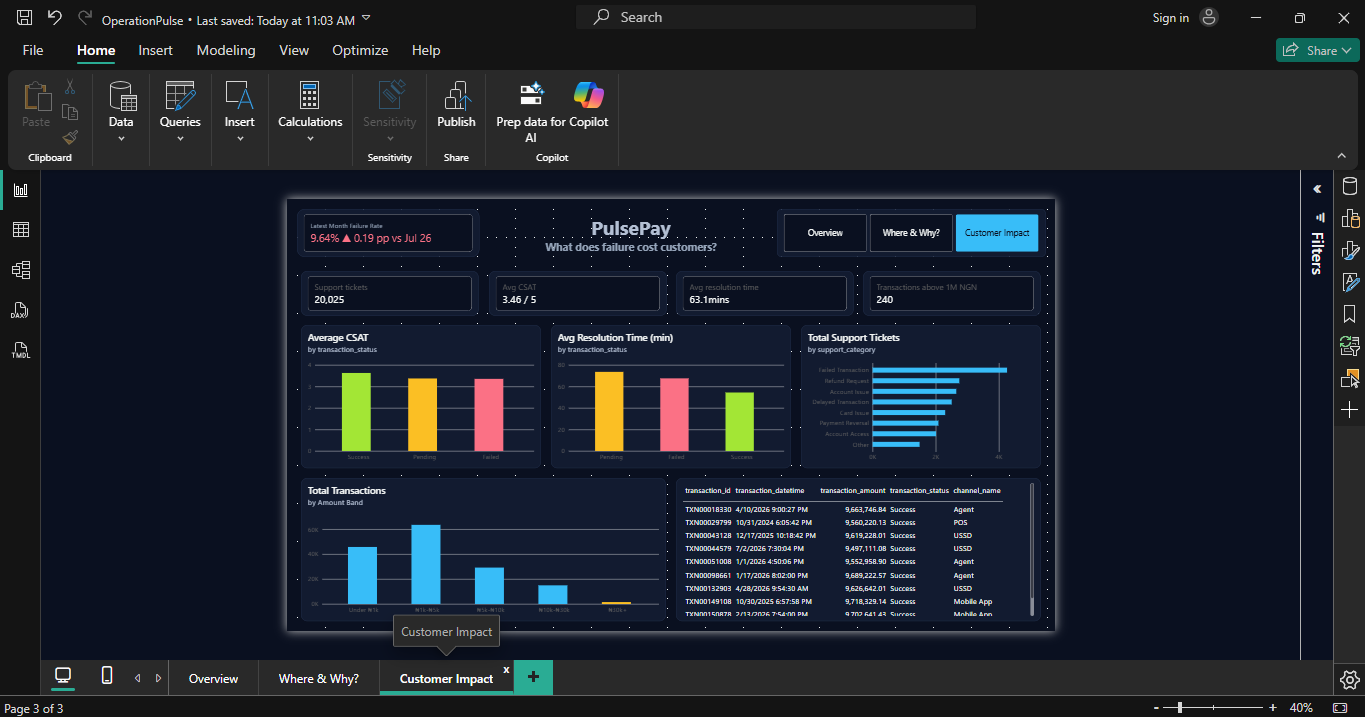

The dashboard page shown, as its layout file describes it:
{"tool":"powerbi","page":{"name":"Customer Impact","canvas":[1920,1080],"ordinal":2},"visuals":[{"type":"cardVisual","fields":{"Data":["support_interactions.Avg CSAT"]},"box":[504,180,444,112],"z":0},{"type":"cardVisual","fields":{"Data":["transactions.Avg resolution time"]},"box":[972,180,444,112],"z":1000},{"type":"cardVisual","fields":{"Data":["transactions.Transactions above 1M NGN"]},"box":[1440,180,444,112],"z":2000},{"type":"clusteredColumnChart","fields":{"Category":["transactions.transaction_status"],"Y":["support_interactions.Average CSAT"]},"box":[36,316,600,358],"z":3000},{"type":"clusteredColumnChart","fields":{"Category":["transactions.transaction_status"],"Y":["transactions.Avg Resolution Time (min)"]},"box":[660,316,600,358],"z":4000},{"type":"clusteredBarChart","fields":{"Category":["support_interactions.support_category"],"Y":["support_interactions.Total Support Tickets"]},"box":[1284,316,600,358],"z":5000},{"type":"clusteredColumnChart","fields":{"Category":["transactions.Amount Band"],"Y":["transactions.Total Transactions"]},"box":[36,698,912,358],"z":6000},{"type":"tableEx","fields":{"Values":["transactions.transaction_id","transactions.transaction_datetime.Variation.Date Hierarchy.Year","transactions.transaction_amount","transactions.transaction_status","channels.channel_name"]},"box":[972,698,912,358],"z":7000},{"type":"cardVisual","fields":{"Data":["support_interactions.Support tickets"]},"box":[36,180,444,112],"z":8000},{"type":"textbox","box":[264,24,1200,120],"z":9000},{"type":"pageNavigator","box":[1224,24,672,120],"z":9001},{"type":"cardVisual","fields":{"Data":["transactions.Failure Headline"]},"box":[24,24,456,120],"z":9002}]}

Visuals, with their boxes on the page's 1920x1080 design canvas (x1, y1, x2, y2). These are canvas units, not pixel positions in the 1365x717 screenshot, which may show the page scaled, cropped or inside an application window:
cardVisual - support_interactions.Avg CSAT: x1=504, y1=180, x2=948, y2=292
cardVisual - transactions.Avg resolution time: x1=972, y1=180, x2=1416, y2=292
cardVisual - transactions.Transactions above 1M NGN: x1=1440, y1=180, x2=1884, y2=292
clusteredColumnChart - transactions.transaction_status x support_interactions.Average CSAT: x1=36, y1=316, x2=636, y2=674
clusteredColumnChart - transactions.transaction_status x transactions.Avg Resolution Time (min): x1=660, y1=316, x2=1260, y2=674
clusteredBarChart - support_interactions.support_category x support_interactions.Total Support Tickets: x1=1284, y1=316, x2=1884, y2=674
clusteredColumnChart - transactions.Amount Band x transactions.Total Transactions: x1=36, y1=698, x2=948, y2=1056
tableEx - transactions.transaction_id x transactions.transaction_datetime.Variation.Date Hierarchy.Year: x1=972, y1=698, x2=1884, y2=1056
cardVisual - support_interactions.Support tickets: x1=36, y1=180, x2=480, y2=292
textbox: x1=264, y1=24, x2=1464, y2=144
pageNavigator: x1=1224, y1=24, x2=1896, y2=144
cardVisual - transactions.Failure Headline: x1=24, y1=24, x2=480, y2=144
